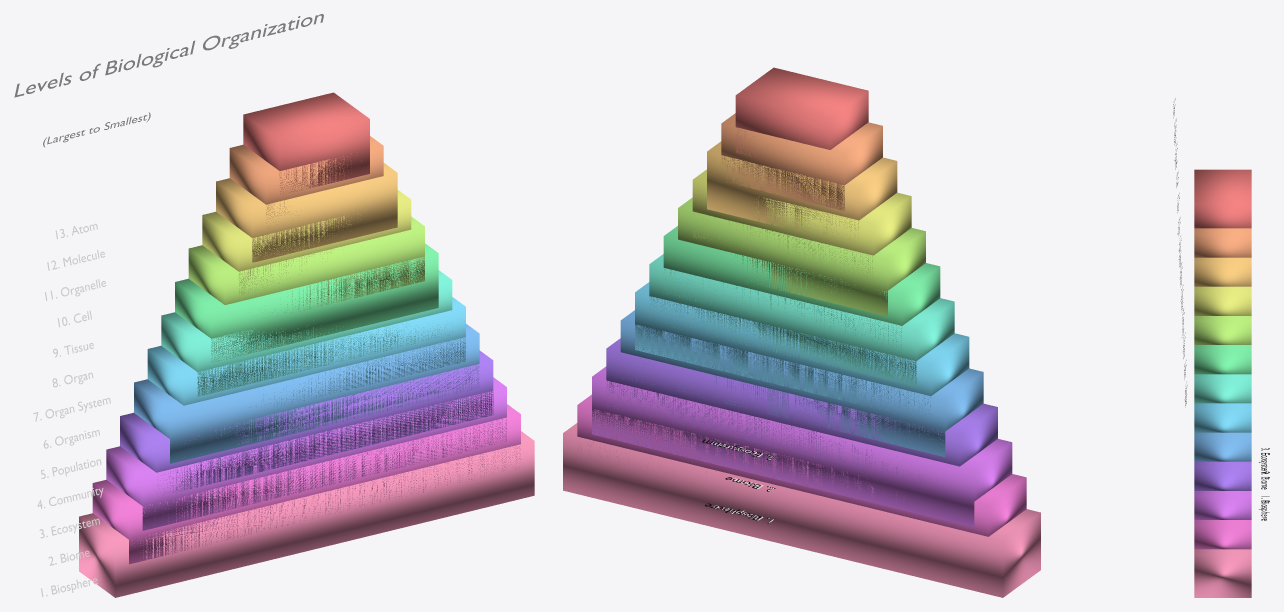
The model's file is biological_organization.glb.
3 views of the same model, side by side, from view 1: azimuth 30°, elevation 25°; view 2: azimuth 150°, elevation 25°; view 3: azimuth 270°, elevation 25° (orthographic). The views are drawn at different scales.
Parts seen in each view (by area): view 1: Cube.013, Cube.015, Cube.016, Cube.017, Cube.014, Cube.020, Cube.018, Cube.021, Cube.023, Cube.019, Cube.025, Cube.022 (+2 smaller); view 2: Cube.013, Cube.015, Cube.018, Cube.017, Cube.019, Cube.016, Cube.021, Cube.024, Cube.023, Cube.014, Cube.025, Cube.020 (+1 smaller); view 3: Cube.025, Cube.013, Cube.014, Cube.016, Cube.017, Cube.018, Cube.019, Cube.020, Cube.022, Cube.023, Cube.024, Cube.015 (+1 smaller).
Part boxes in pixels (x1,y1,x2,y2): Cube.013: (79, 431, 534, 597); Cube.015: (106, 377, 506, 530); Cube.016: (120, 350, 493, 495); Cube.017: (134, 324, 479, 463); Cube.014: (92, 404, 520, 564); Cube.020: (175, 243, 438, 361); Cube.018: (147, 297, 465, 407); Cube.021: (188, 216, 424, 313); Cube.023: (216, 163, 397, 262); Cube.019: (161, 270, 452, 396); Cube.025: (243, 92, 369, 194); Cube.022: (202, 190, 411, 294); Cube.013: (563, 423, 1040, 597); Cube.015: (592, 366, 1012, 527); Cube.018: (635, 282, 969, 420); Cube.017: (620, 310, 983, 456); Cube.019: (649, 254, 954, 386); Cube.016: (606, 338, 997, 485); Cube.021: (678, 197, 925, 316); Cube.024: (721, 113, 882, 210); Cube.023: (707, 141, 897, 234); Cube.014: (577, 394, 1026, 536); Cube.025: (735, 67, 868, 161); Cube.020: (663, 226, 940, 350); Cube.025: (1194, 169, 1251, 228); Cube.013: (1194, 549, 1251, 597); Cube.014: (1194, 520, 1251, 549); Cube.016: (1194, 461, 1251, 490); Cube.017: (1194, 432, 1251, 461); Cube.018: (1194, 403, 1251, 432); Cube.019: (1194, 374, 1251, 403); Cube.020: (1194, 345, 1251, 374); Cube.022: (1194, 286, 1251, 315); Cube.023: (1194, 257, 1251, 286); Cube.024: (1194, 228, 1251, 257); Cube.015: (1194, 491, 1251, 519).
Bounding box in the file's own units: 9.72 × 9.17 × 2.01.
